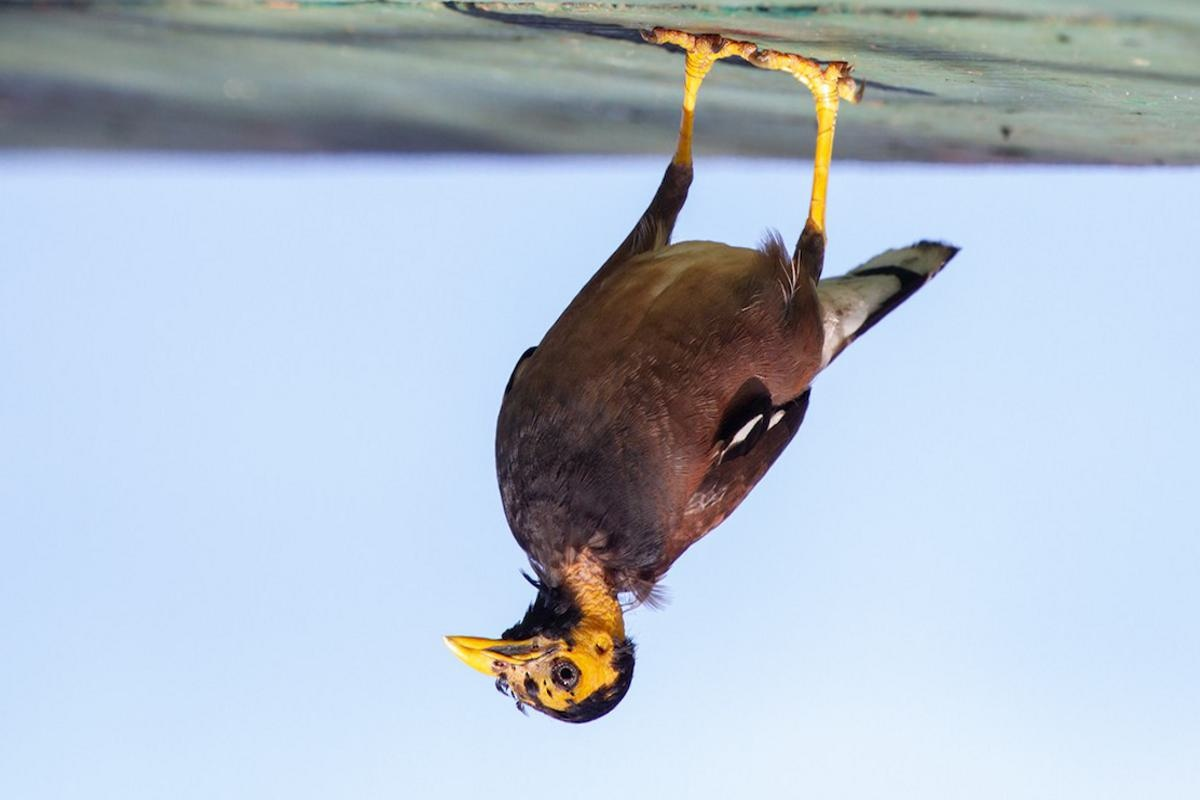myna: (444, 61, 930, 732)
